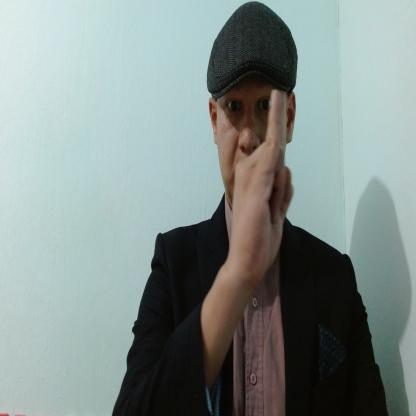I: (229, 88, 294, 284)
